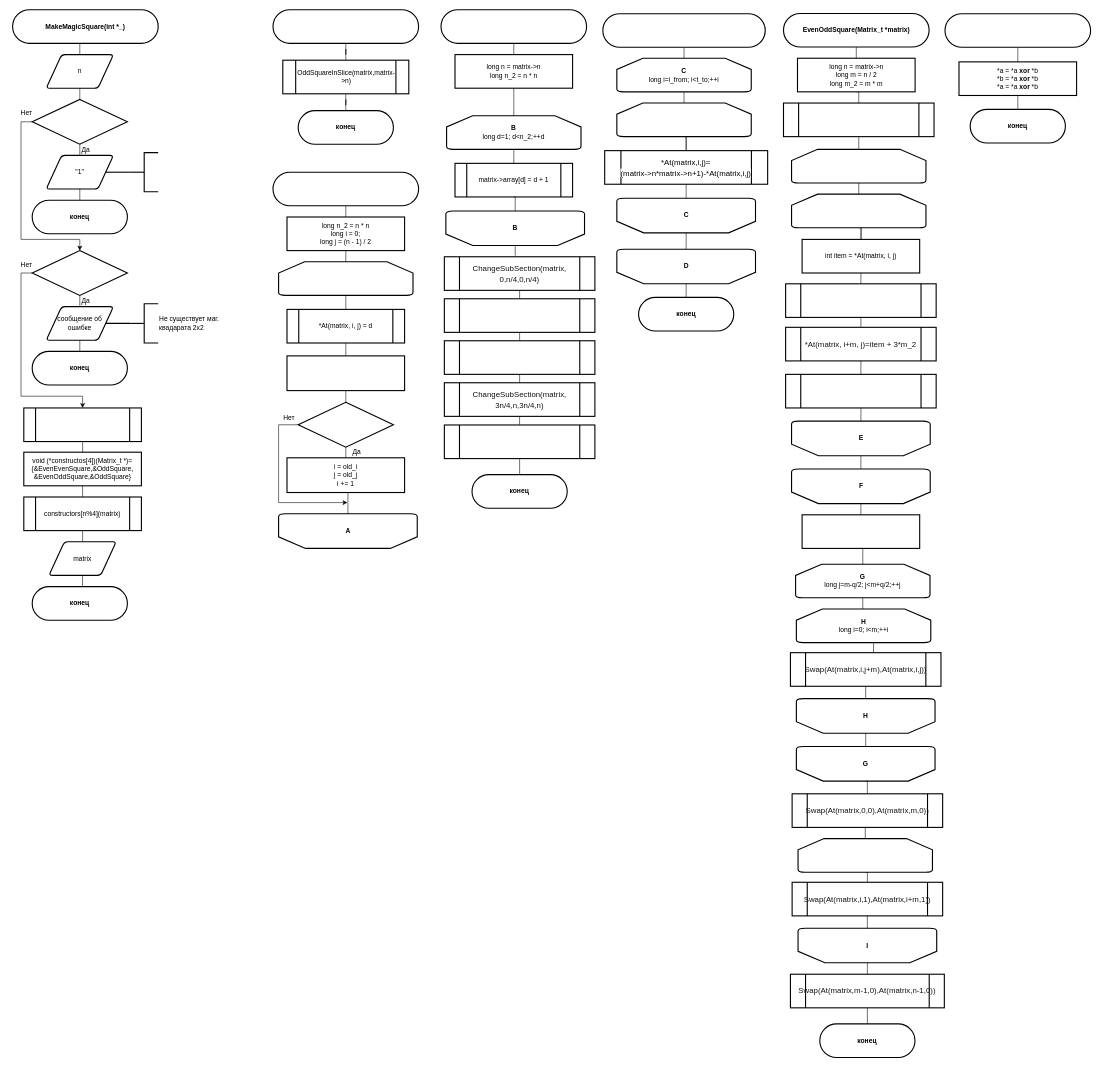
Image size: 1100x1068. Some labels were removed from this diagram. Each missing label, with the centre of its shape:
"*At(matrix, i+m, j+m)=item + m_2" goes at (x=860, y=391).
"*At(matrix, i, j) != 0" goes at (x=345, y=424).
"*At(matrix, i, j+m)=item + 2*m_2" goes at (x=860, y=300).
"A long d=1; d<n_2;++d" goes at (x=345, y=278).
"ChangeSubSection(matrix, 0,n/4,3n/4,n)" goes at (x=519, y=315).
"ChangeSubSection(matrix, 3n/4,n,0,n/4)" goes at (x=519, y=357).
"ChangeSubSection(matrix, n,3n/4,n/4,3n/4)" goes at (x=519, y=441).
"ChangeSubSection(Matrix_t *matrix,long i_from,long i_to,long j_from,long j_to)" goes at (x=684, y=30).
"D long j=j_from; j<j_to;++j" goes at (x=684, y=119).
"E long i=0; i<m;++i" goes at (x=858, y=166).
"EvenEvenSquare(Matrix_t *matrix)" goes at (x=513, y=26).
"F long j=0; j<m;++j" goes at (x=858, y=210).
"I long i=1; i<m-1;++i" goes at (x=865, y=855).
"long old_i = i long old_j = j i = i == 0 ? n - 1 : i - 1 j = (j + 1) % n" goes at (x=345, y=373).
"Matrix_t matrix; AllocateMatrix(&matrix, n)" goes at (x=82, y=424).
"n == 1" goes at (x=79, y=121).
"n == 2" goes at (x=79, y=273).
"OddSquare(Matrix_t *matrix)" goes at (x=345, y=26).
"OddSquareInSlice(matrix, m)" goes at (x=858, y=119).
"OddSquareInSlice(Matrix_t *matrix, long n)" goes at (x=345, y=188).
"q = m - 3" goes at (x=860, y=531).
"Swap(int *a, int *b)" goes at (x=1017, y=30).
"Тривиальный случай" goes at (x=143, y=172).
